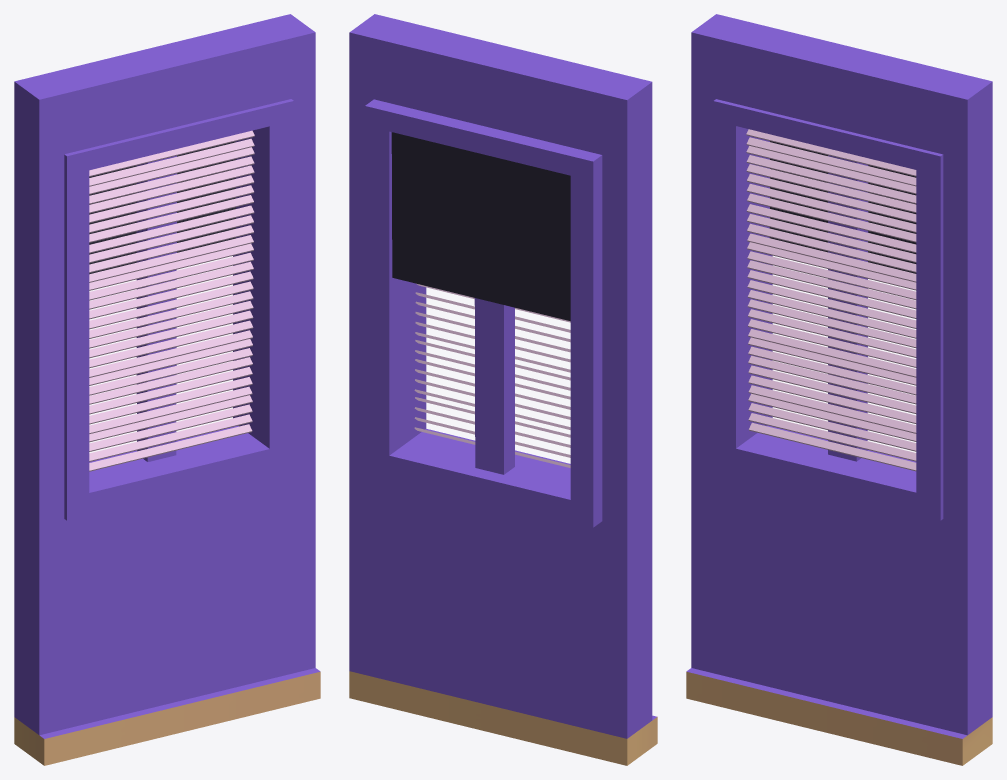
Rendered from Mur fenêtre stores.fbx.
3 renders of one model, left to right at view 1: azimuth 30°, elevation 25°; view 2: azimuth 150°, elevation 25°; view 3: azimuth 330°, elevation 25°, orthographic.
Parts seen in each view (by area): view 1: Cube, Cube.001, Plane; view 2: Cube, Plane, Cube.001; view 3: Cube, Cube.001, Plane.
Boxes of the visible parts, left/top/right/bottom form: Cube: left=14, top=14, right=320, bottom=765; Cube.001: left=89, top=130, right=254, bottom=471; Plane: left=89, top=141, right=235, bottom=274; Cube: left=349, top=14, right=657, bottom=765; Plane: left=391, top=132, right=570, bottom=321; Cube.001: left=414, top=283, right=570, bottom=467; Cube: left=686, top=14, right=992, bottom=765; Cube.001: left=746, top=129, right=916, bottom=471; Plane: left=769, top=141, right=916, bottom=273.
Size of the model in its own units: 389 by 891 by 95.26.
